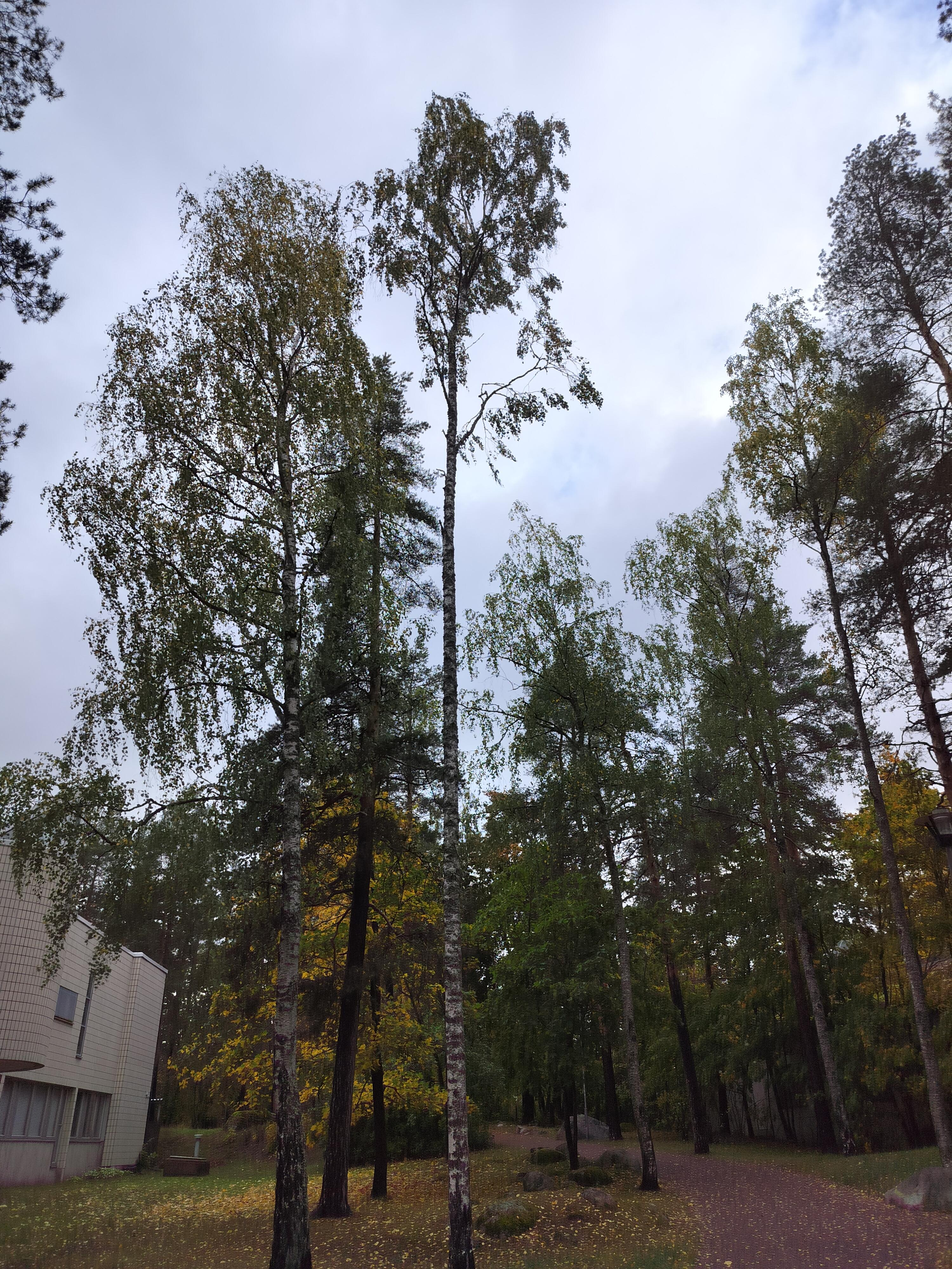Birch: (30, 156, 447, 1267), (352, 89, 605, 1266), (661, 318, 952, 1155), (498, 488, 658, 1193)
